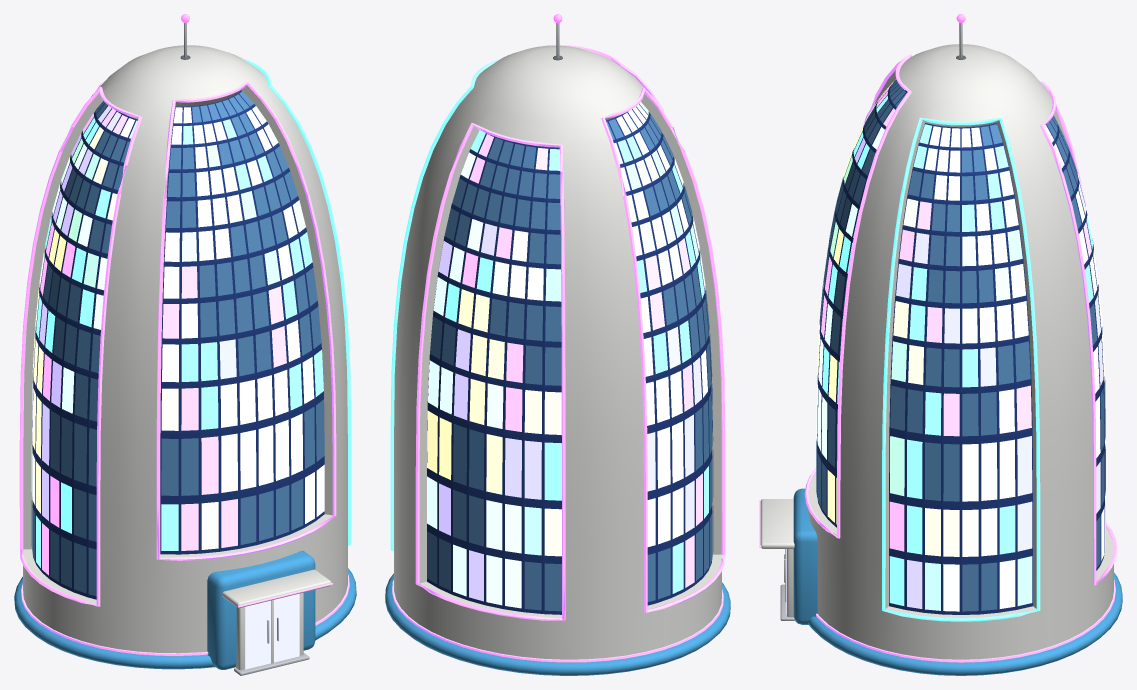
The model's file is capsula_ovo_azul.glb.
3 views of the same model, side by side, from view 1: azimuth 30°, elevation 25°; view 2: azimuth 150°, elevation 25°; view 3: azimuth 270°, elevation 25° (orthographic).
Parts seen in each view (by area): view 1: capsula_ovo_azul; view 2: capsula_ovo_azul; view 3: capsula_ovo_azul.
Boxes of the visible parts, left/top/right/bottom form: capsula_ovo_azul: left=14, top=14, right=356, bottom=675; capsula_ovo_azul: left=385, top=14, right=730, bottom=675; capsula_ovo_azul: left=759, top=14, right=1122, bottom=675.
Size of the model in its own units: 12.2 by 22.7 by 12.67.
12 materials, 1 textured.
